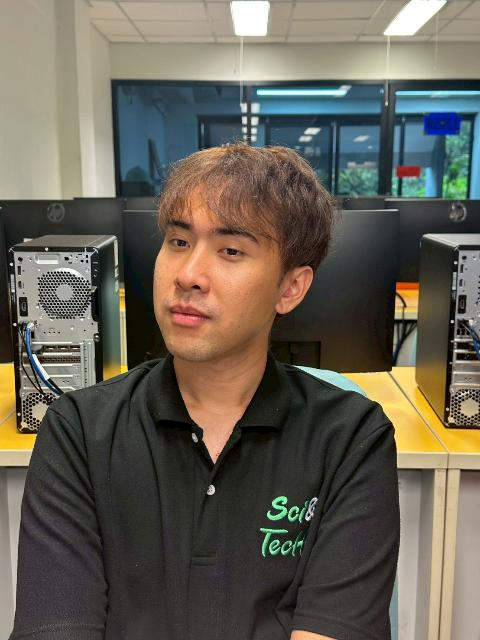fokus: (147, 149, 313, 362)
